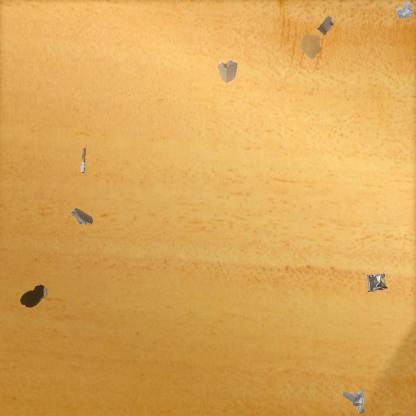dirty: (341, 387, 367, 415), (215, 58, 239, 85), (69, 206, 95, 228), (314, 13, 336, 36), (394, 0, 416, 21), (366, 272, 388, 292), (79, 146, 88, 174)
liquid: (292, 28, 322, 60), (19, 283, 49, 309)
